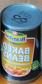beans: (1, 3, 41, 83)
